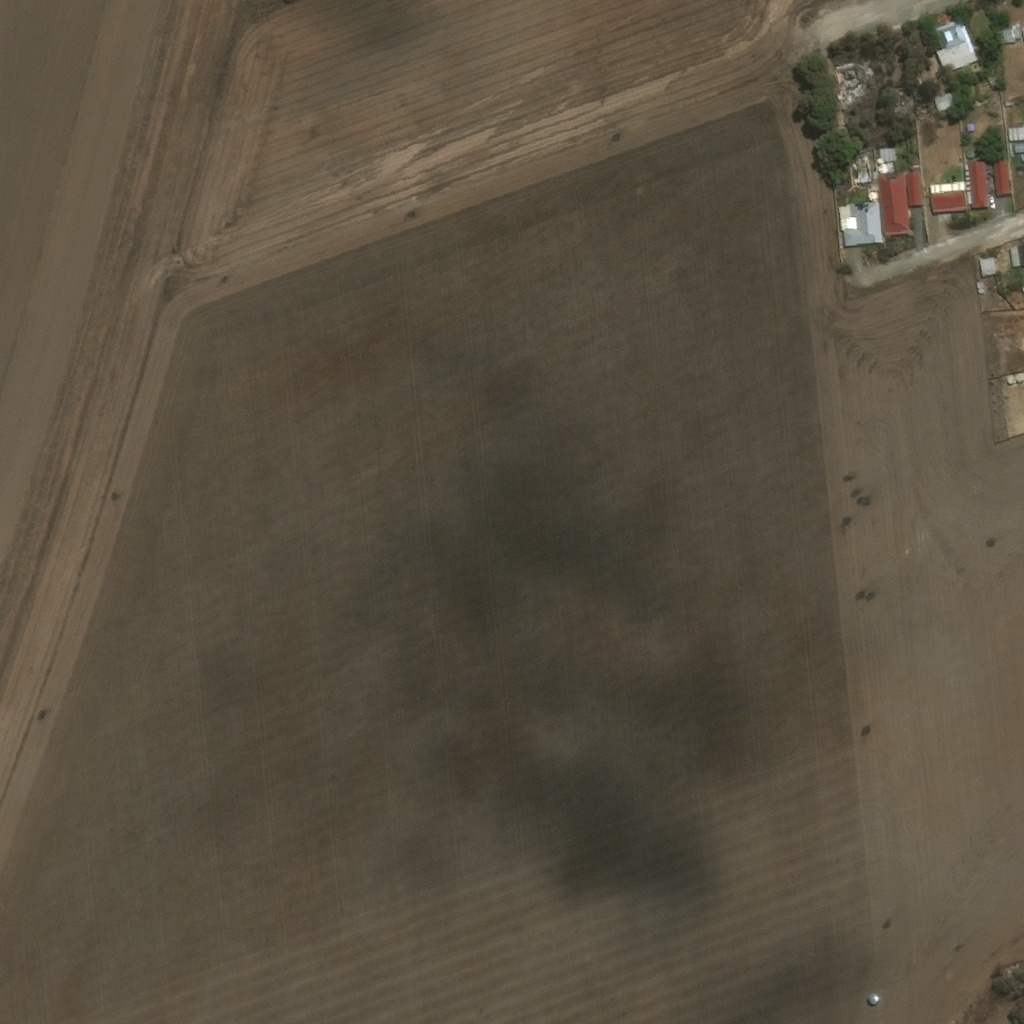0 no-damage: (932, 20, 977, 74), (929, 182, 967, 215), (966, 161, 989, 210), (992, 160, 1012, 198), (932, 91, 961, 113), (977, 257, 996, 279), (1002, 28, 1019, 45), (965, 151, 974, 160)
1 minor-damage: (877, 172, 922, 237), (838, 202, 883, 248), (867, 193, 877, 202)
2 major-damage: (873, 148, 895, 174)
3 destroyed: (827, 61, 874, 114), (851, 163, 878, 192), (904, 96, 924, 118)
4 un-classified: (1008, 242, 1023, 270), (1008, 128, 1023, 143), (1013, 142, 1023, 155)
